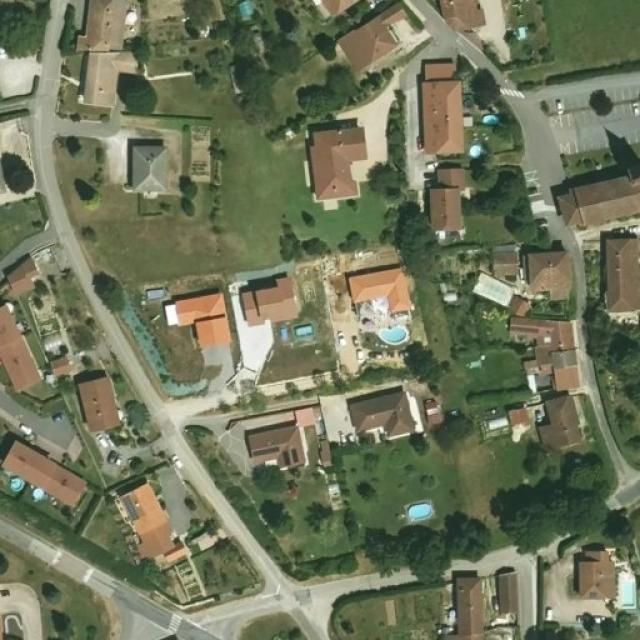maison: (77, 0, 146, 110), (587, 172, 640, 312), (0, 429, 88, 511), (333, 8, 430, 78), (238, 259, 313, 334), (3, 262, 45, 389), (124, 475, 184, 563), (346, 252, 416, 325), (168, 281, 231, 352), (348, 387, 424, 441), (497, 251, 575, 301), (534, 358, 587, 431), (314, 129, 364, 201), (424, 63, 458, 152), (247, 414, 311, 461), (73, 373, 121, 432), (501, 314, 579, 349), (572, 544, 616, 600), (451, 574, 487, 634), (431, 168, 462, 231), (130, 142, 168, 193), (498, 565, 526, 618)
piscine: (466, 110, 506, 167), (364, 320, 418, 353), (397, 491, 440, 522), (7, 473, 48, 504)
